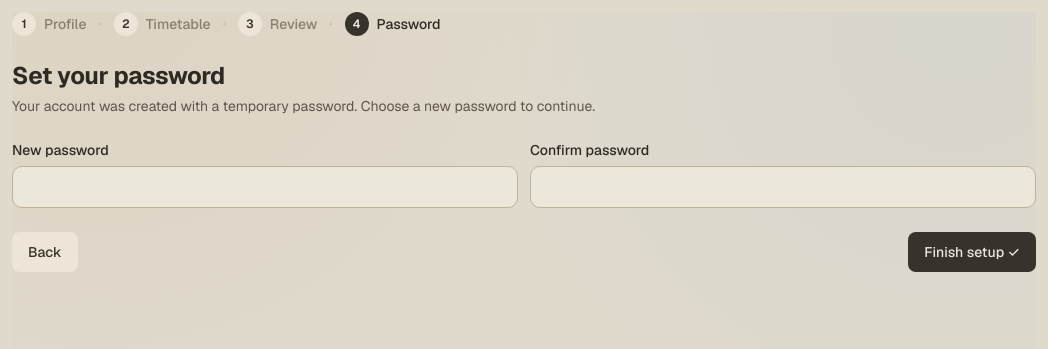
Test case: PasswordStep › rejects a password shorter than the minimum length
Type "short" into the password field labelled "New password" at (265, 187), box [12,166,518,208]
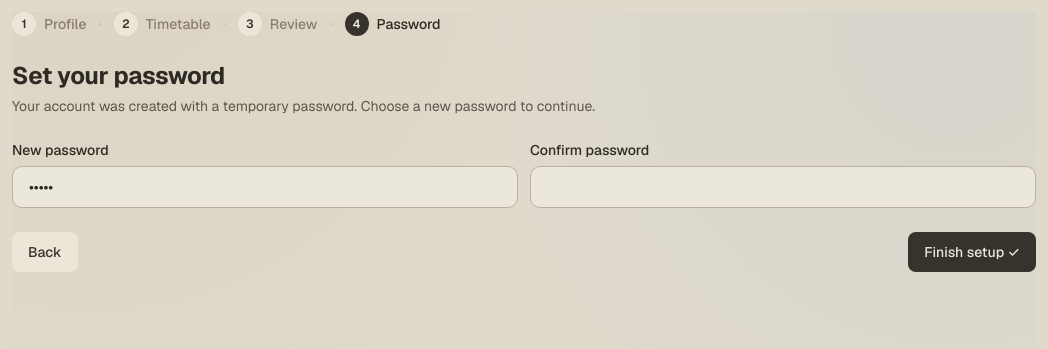
Type "short" into the password field labelled "Confirm password" at (783, 187), box [530,166,1036,208]
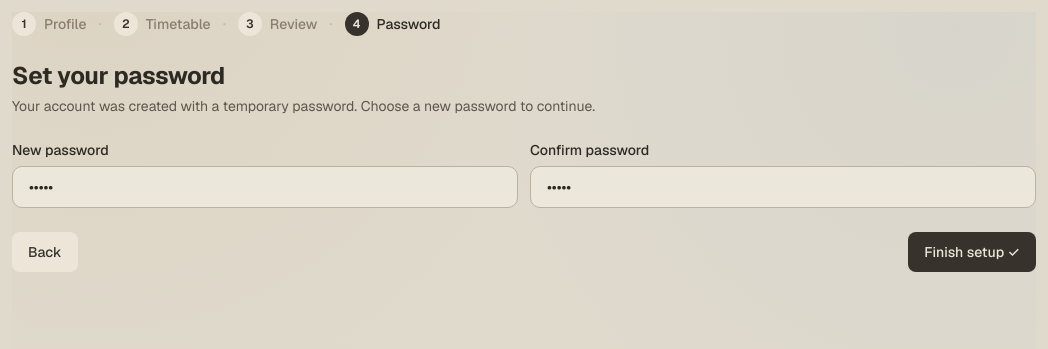
Click the button "Finish setup ✓" at (972, 252), box [908,232,1036,272]
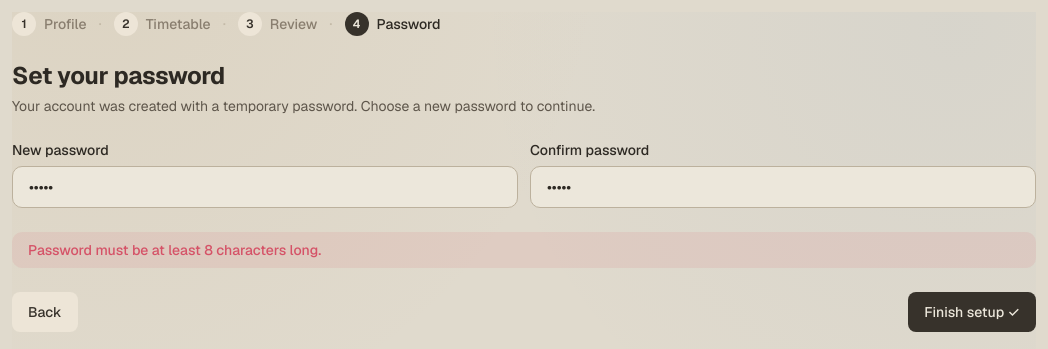
Now the text "Password must be at least 8 characters long." is shown, box [12,232,1036,268]
